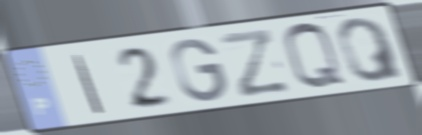2: (115, 44, 176, 114)
G: (168, 36, 230, 105)
I: (70, 52, 107, 116)
Q: (334, 15, 408, 85), (281, 21, 350, 94)
Z: (216, 26, 293, 101)
